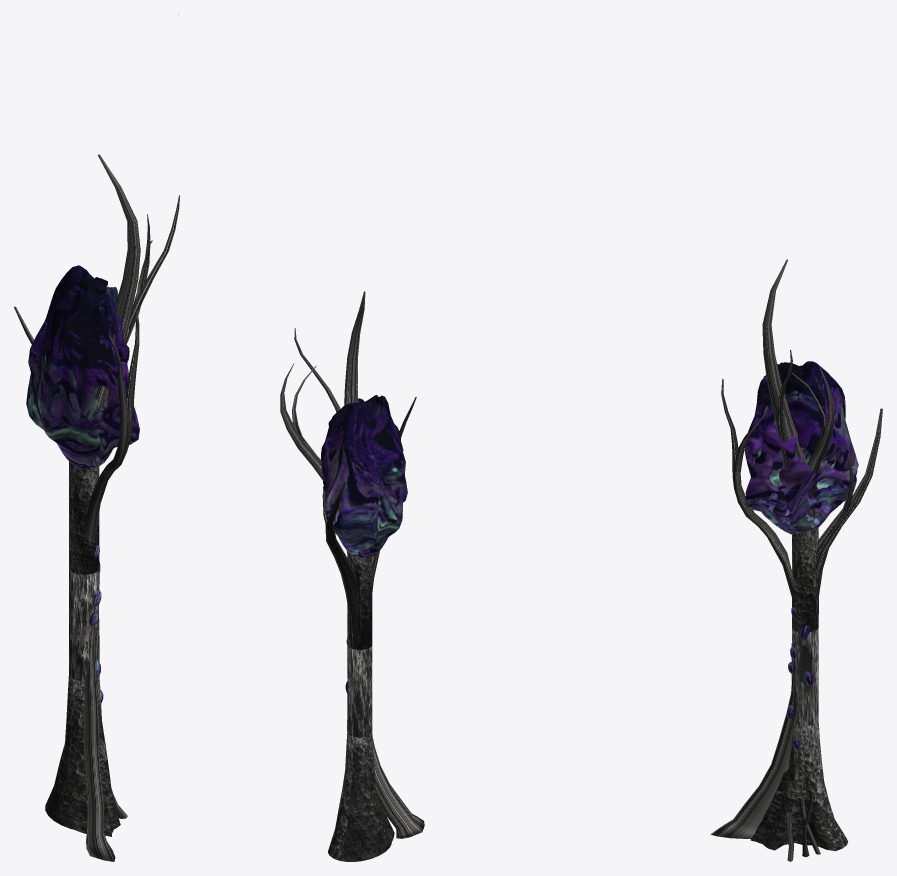
File: Tree_06.fbx
3 views of the same model, side by side, from view 1: azimuth 30°, elevation 25°; view 2: azimuth 150°, elevation 25°; view 3: azimuth 270°, elevation 25° (orthographic). The views are drawn at different scales.
Visible parts, largest first — view 1: Tree_Bottom_01.001, Icosphere.001; view 2: Tree_Bottom_01.001, Icosphere.001; view 3: Tree_Bottom_01.001, Icosphere.001.
Part boxes in pixels (x1=…): Tree_Bottom_01.001: x1=14, y1=154, x2=179, y2=861; Icosphere.001: x1=26, y1=265, x2=139, y2=469; Tree_Bottom_01.001: x1=280, y1=291, x2=424, y2=861; Icosphere.001: x1=321, y1=395, x2=407, y2=557; Tree_Bottom_01.001: x1=710, y1=259, x2=882, y2=861; Icosphere.001: x1=744, y1=361, x2=858, y2=534.
Size of the model in its own units: 2.1 by 13.33 by 4.96.
